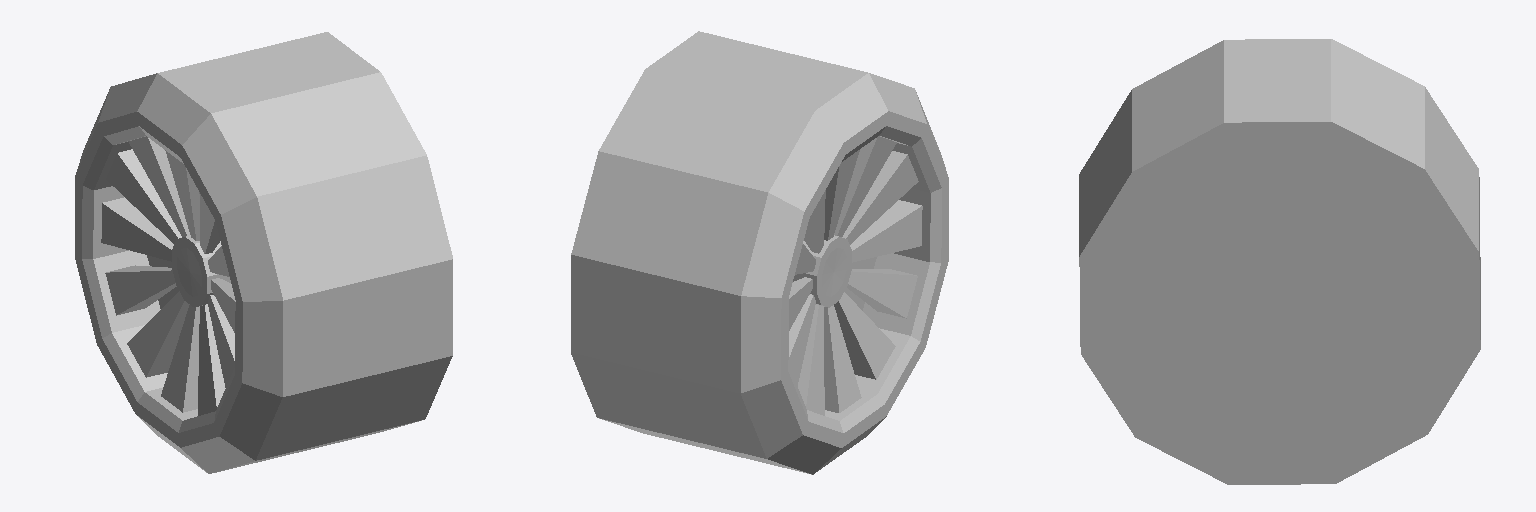
Rendered from Front_Wheels_1.obj.
The picture shows the model from 3 angles: view 1: azimuth 30°, elevation 25°; view 2: azimuth 150°, elevation 25°; view 3: azimuth 270°, elevation 25°; orthographic projection.
Parts seen in each view (by area): view 1: wheel_RF; view 2: wheel_RF; view 3: wheel_RF.
Part boxes in pixels (x1,y1,x2,y2): wheel_RF: (75,32,452,473); wheel_RF: (571,31,948,474); wheel_RF: (1079,39,1480,484).
Size of the model in its own units: 1.39 by 2.48 by 2.48.